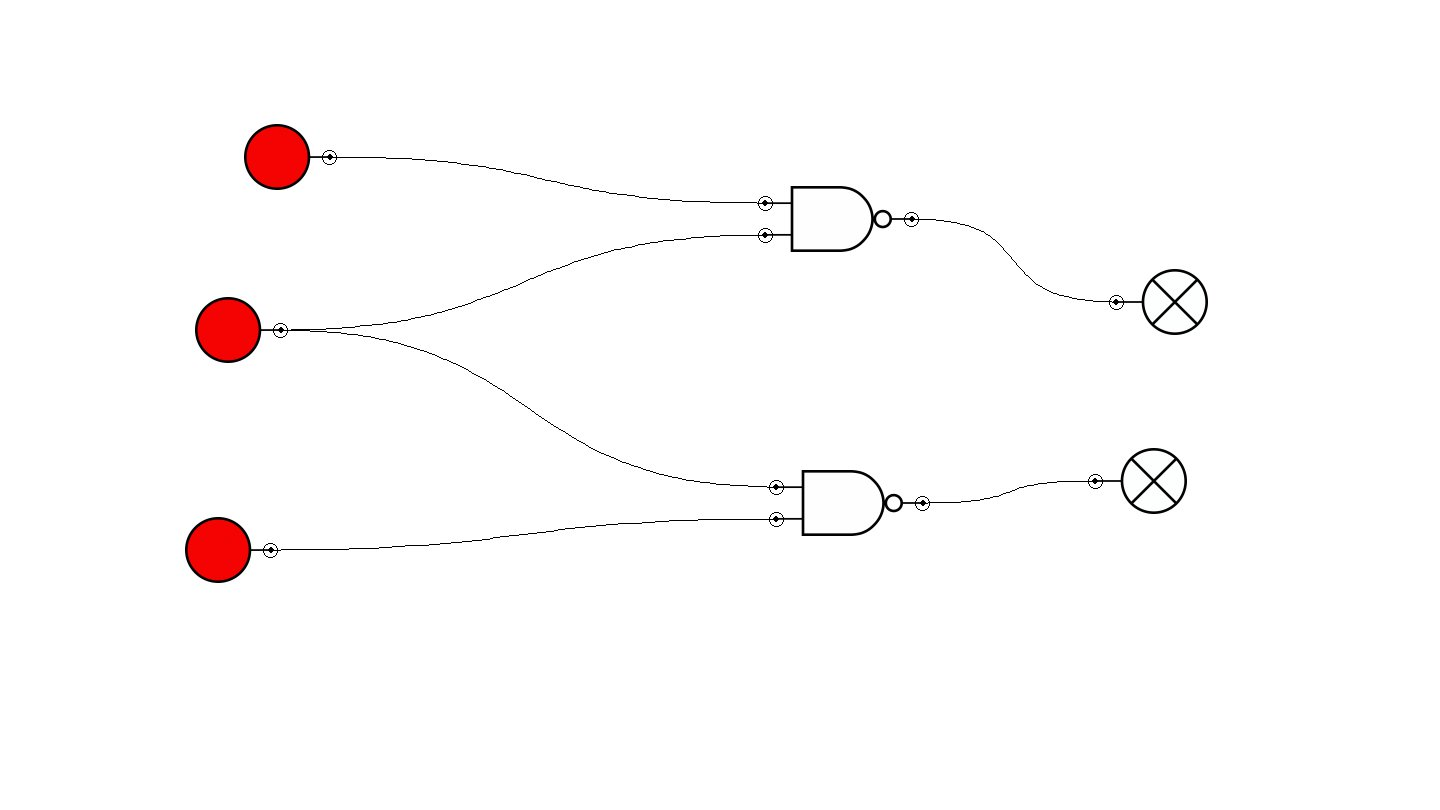bulb: (1109, 269, 1208, 335), (1088, 448, 1187, 514)
nand: (769, 470, 930, 536), (758, 186, 919, 252)
switch_False: (185, 517, 278, 583), (244, 124, 337, 190), (195, 297, 288, 363)
